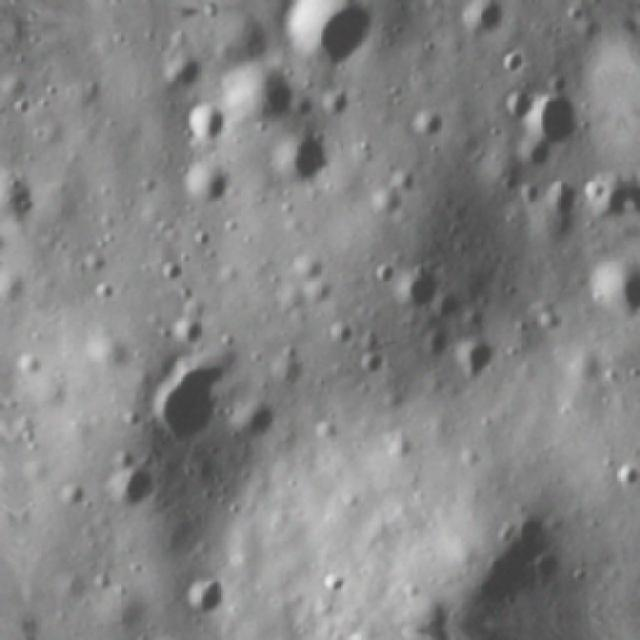crater: (138, 359, 240, 448), (284, 0, 389, 72), (231, 54, 314, 126), (98, 460, 173, 520), (527, 88, 595, 154), (577, 258, 640, 328), (271, 130, 334, 192), (385, 264, 452, 318), (177, 567, 237, 627), (177, 155, 237, 213), (450, 334, 508, 391), (231, 393, 284, 449), (586, 168, 632, 232), (182, 98, 232, 147), (457, 0, 515, 40), (159, 53, 212, 96), (511, 136, 555, 175), (498, 83, 540, 123), (168, 310, 208, 352), (318, 564, 358, 598), (612, 459, 640, 493), (130, 631, 216, 640), (161, 9, 213, 22), (0, 224, 12, 261)
